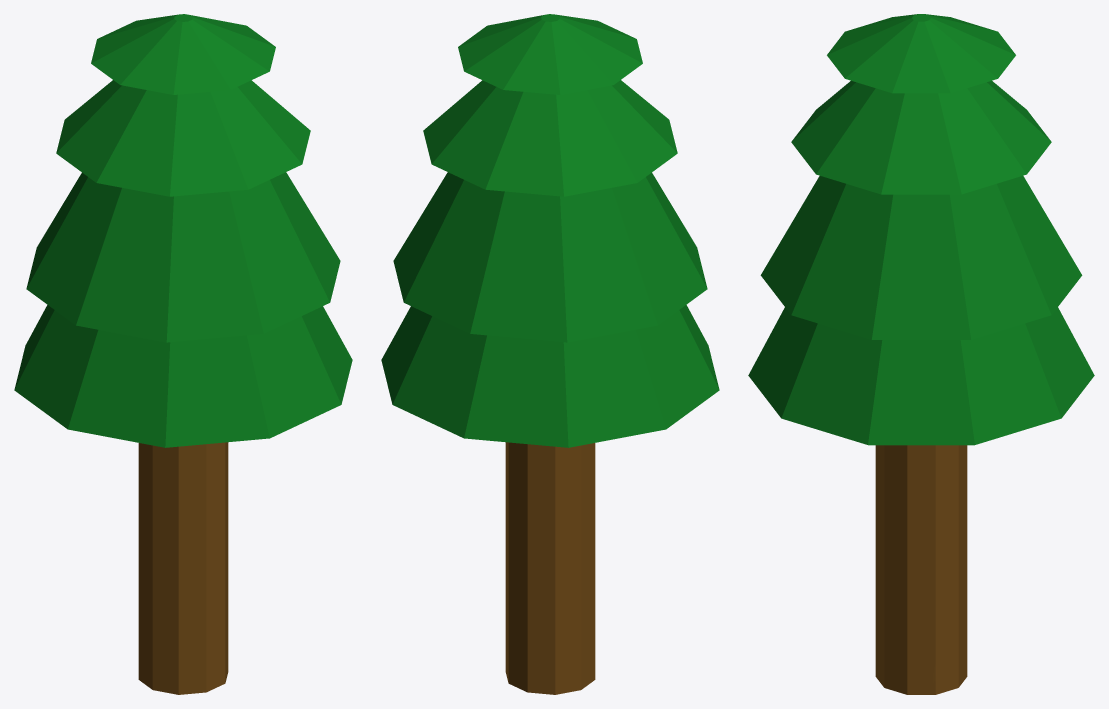
The model's file is lowpolytree.fbx.
The picture shows the model from 3 angles, left to right: view 1: azimuth 30°, elevation 25°; view 2: azimuth 150°, elevation 25°; view 3: azimuth 270°, elevation 25°; orthographic projection.
Parts seen in each view (by area): view 1: Cylinder; view 2: Cylinder; view 3: Cylinder.
Boxes of the visible parts, bbox=[...] form: Cylinder: bbox=[14, 14, 352, 694]; Cylinder: bbox=[381, 14, 719, 694]; Cylinder: bbox=[748, 14, 1094, 694].
Size of the model in its own units: 290 by 641 by 305.
